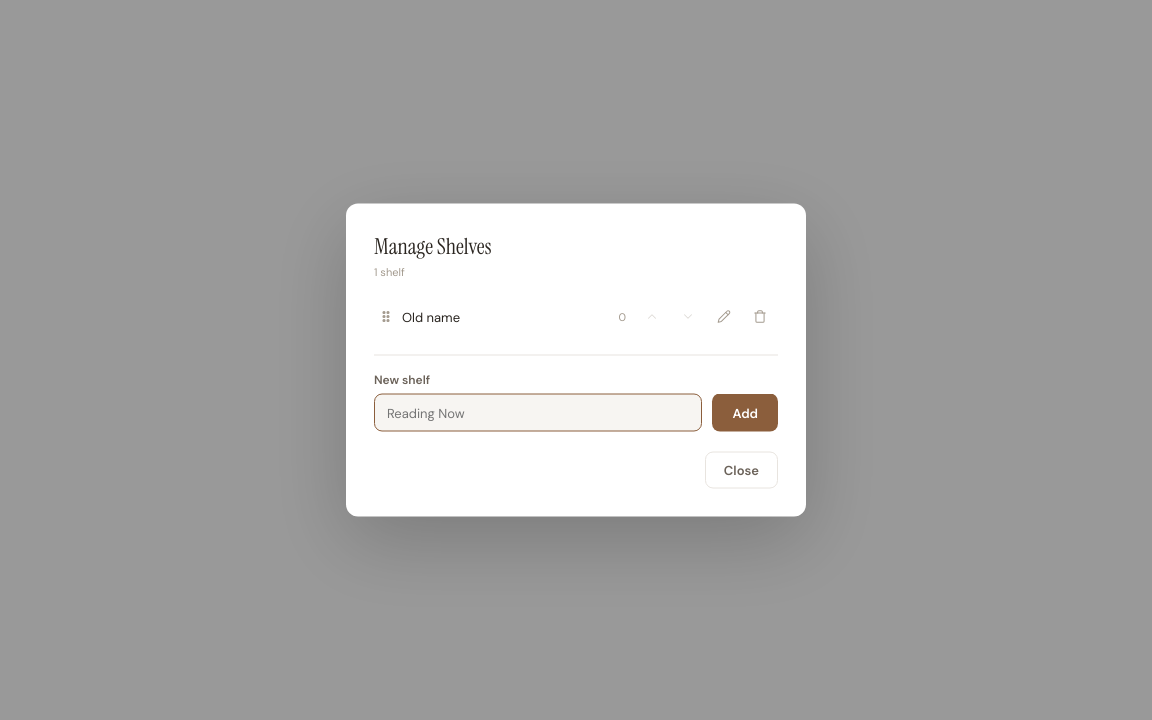
it: ShelfManager › renames a shelf from the row itself
Expected: the text "Old name" is shown, [402,308,460,325]
Click the button named "Edit Old name": x=724, y=316 [710,302,738,330]
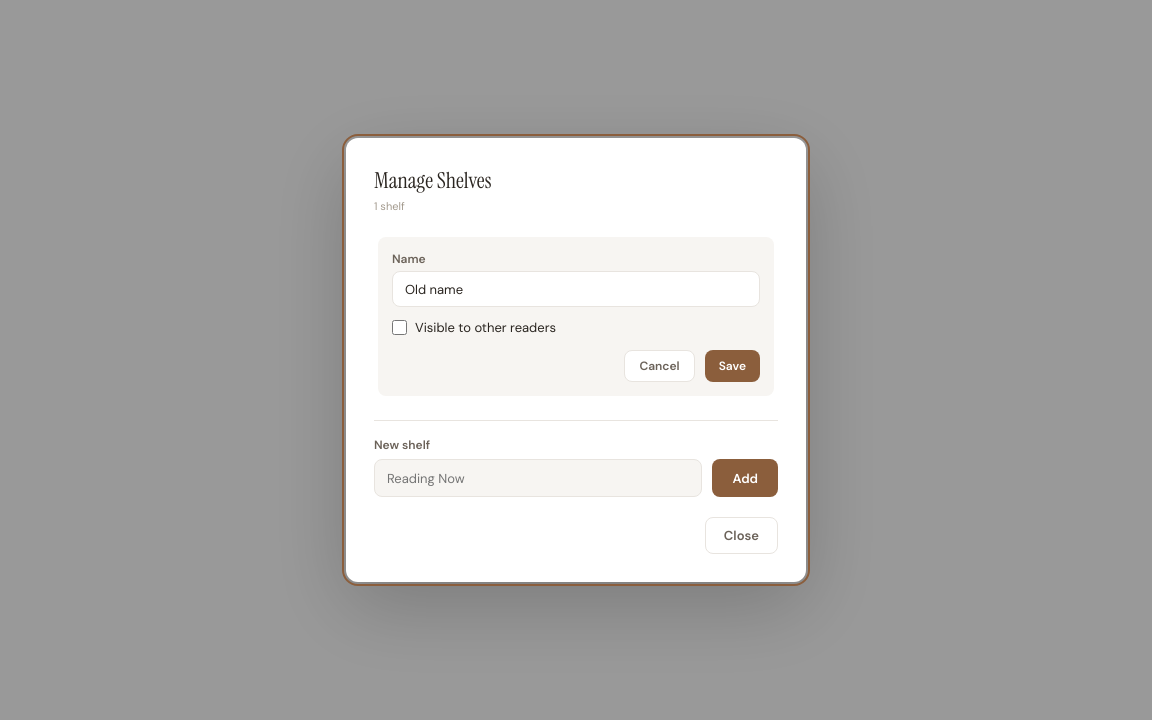
Replace the text in the field labelled "Name" with "New name": x=576, y=289 [392,271,760,307]
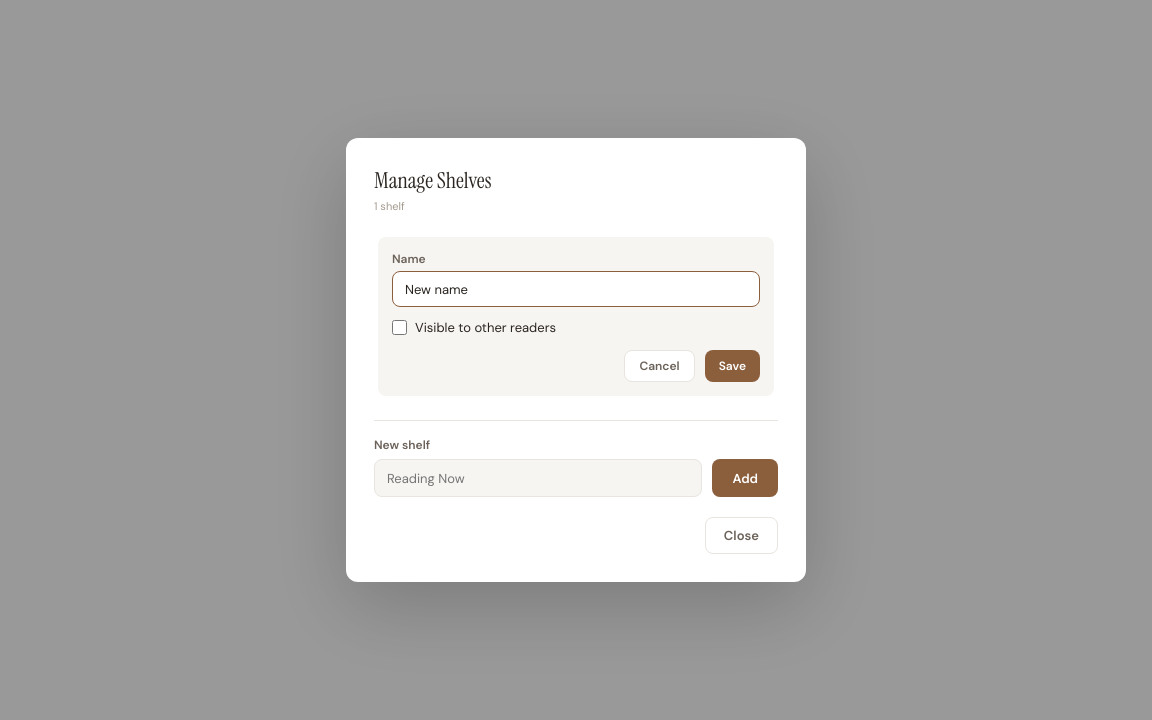
Click the button "Save": x=732, y=366 [705,350,760,382]
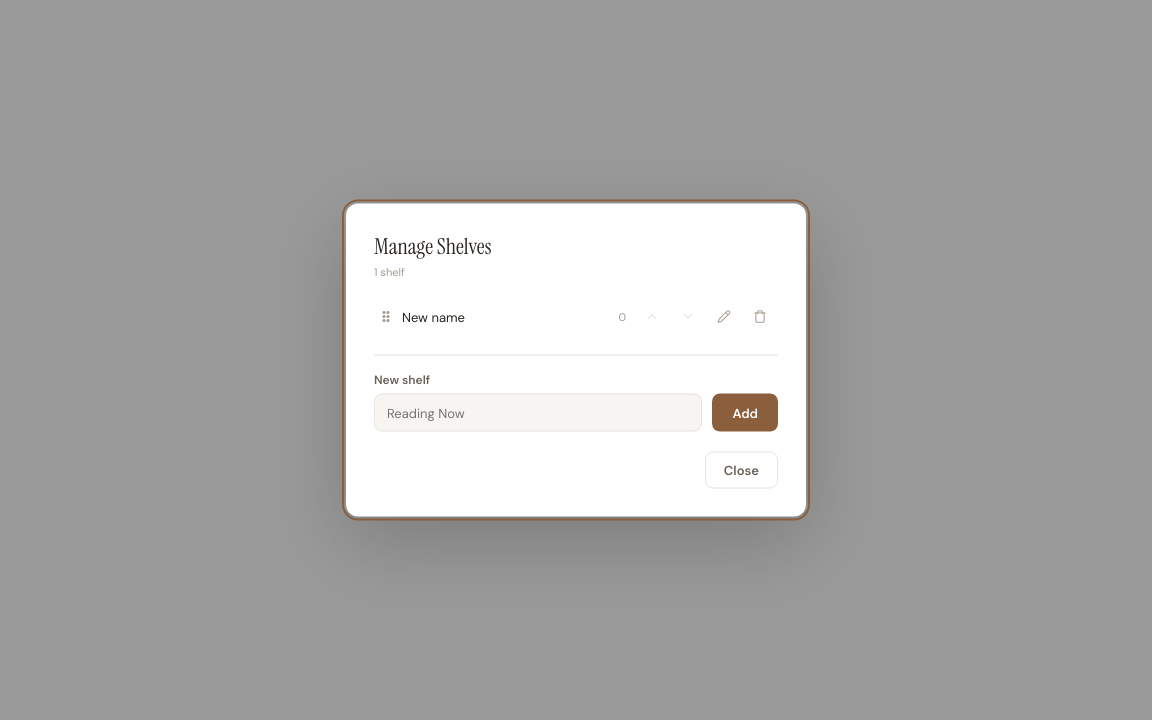
Expected: the text "New name" is shown, [402,308,465,325]
